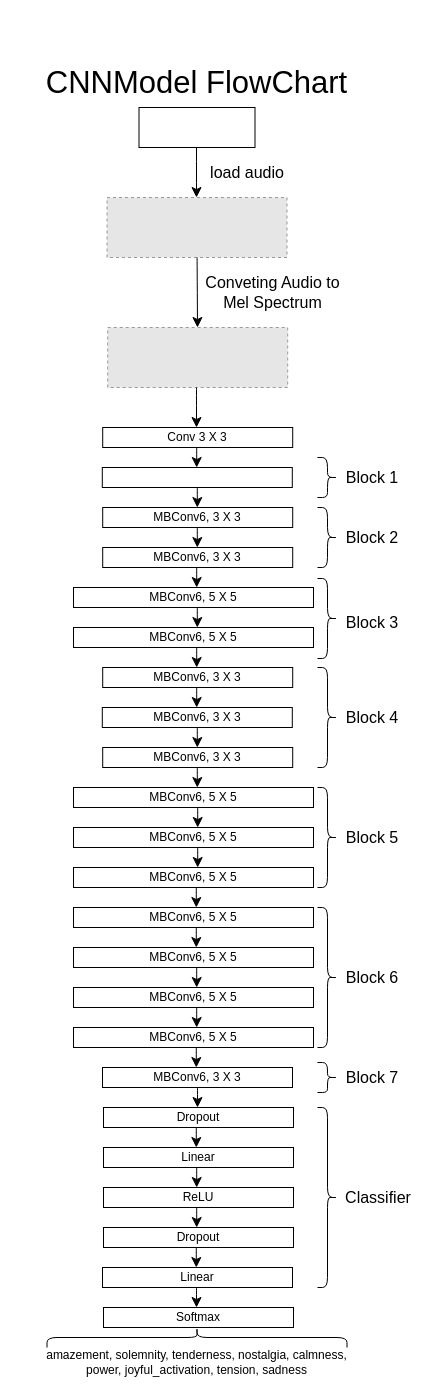
This 430x1394 diagram has some shape labels left out. Grey dashed boxes stand in for pictures. The box of each missing label's shape, as (x1, y1, x2, y2) in pixels:
MBConv1, 3 X 3: (101, 466, 292, 488)
Start: (138, 106, 255, 148)
